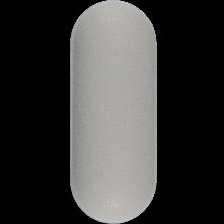61786-598: (0, 0, 224, 224)
